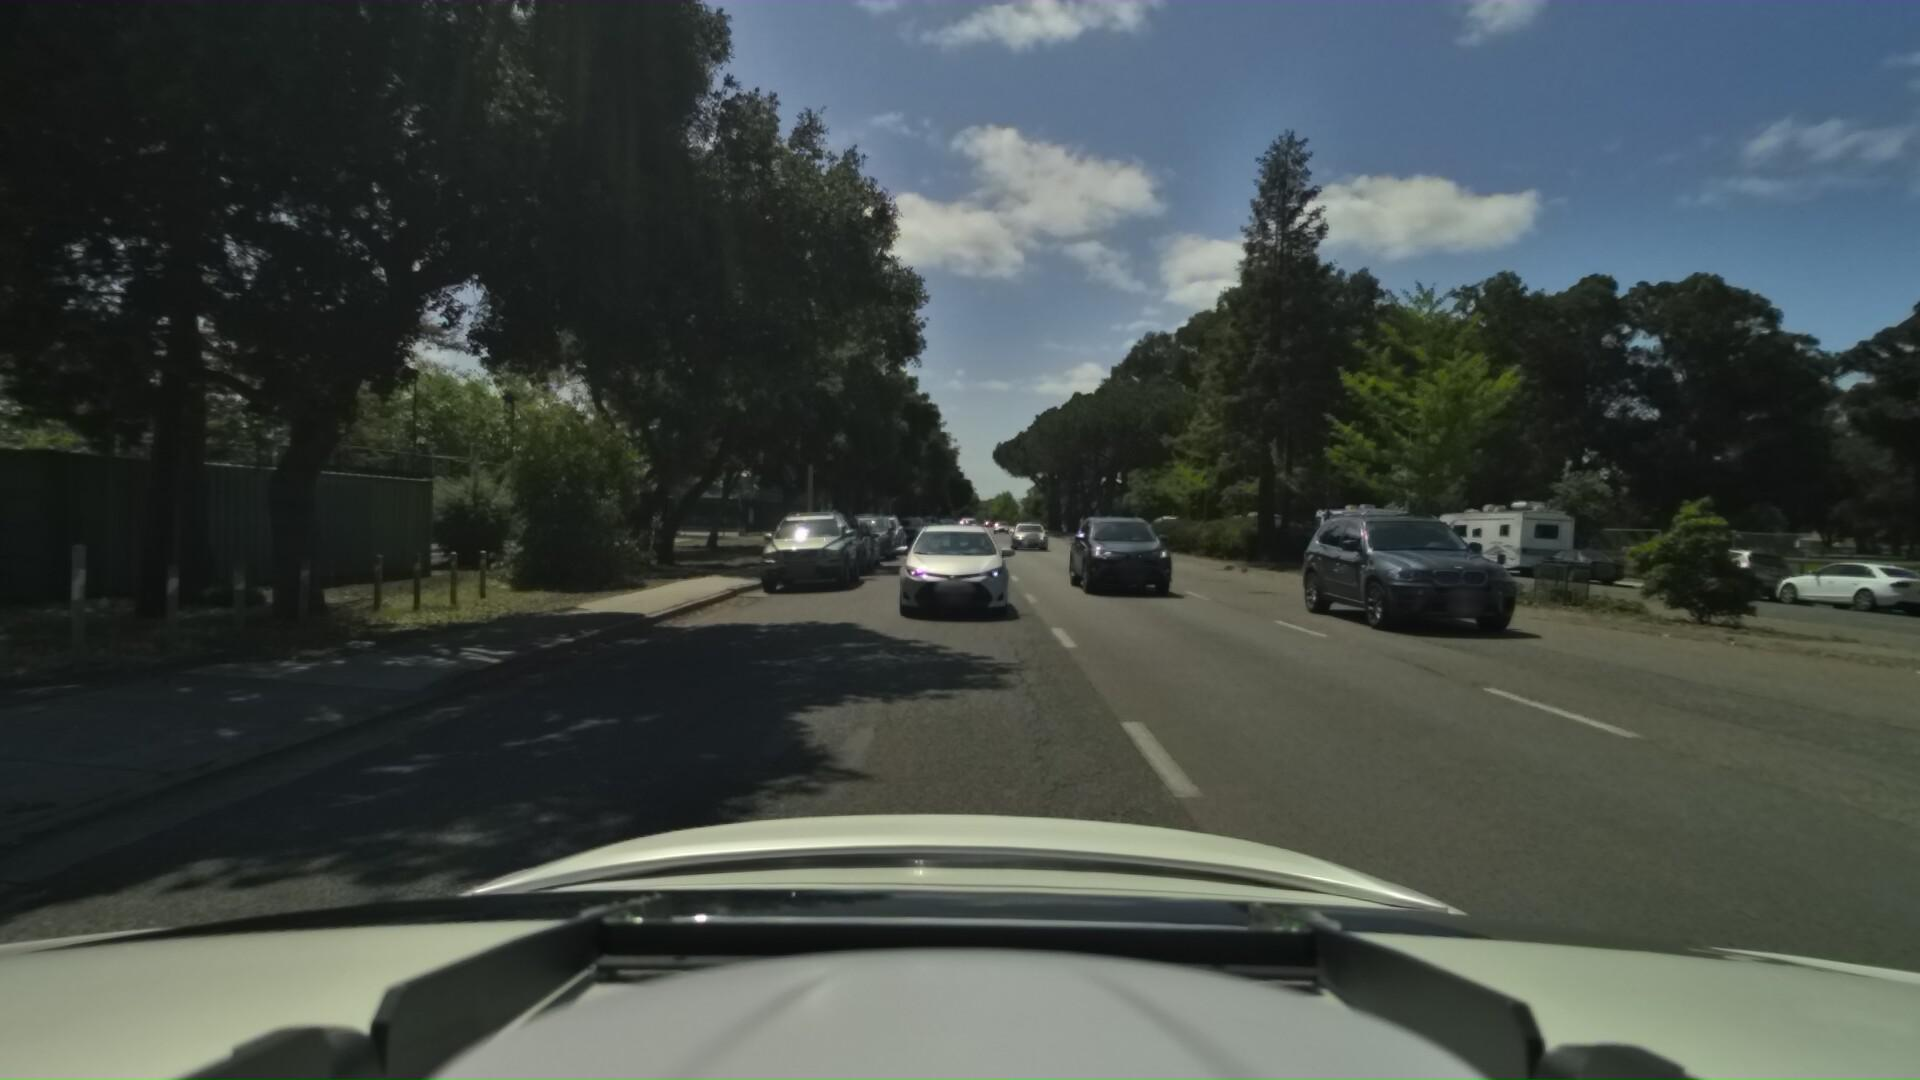car: (1267, 502, 1484, 629), (891, 516, 1015, 622), (1741, 547, 1920, 616), (753, 502, 874, 596), (1634, 538, 1787, 603), (1058, 513, 1160, 592), (800, 512, 882, 583), (1513, 541, 1619, 585), (1396, 530, 1487, 578), (819, 516, 890, 574), (835, 506, 905, 563), (857, 508, 910, 554), (1007, 516, 1047, 549), (894, 510, 928, 541)
other_vehicle: (1414, 491, 1573, 580), (1302, 498, 1404, 560)
